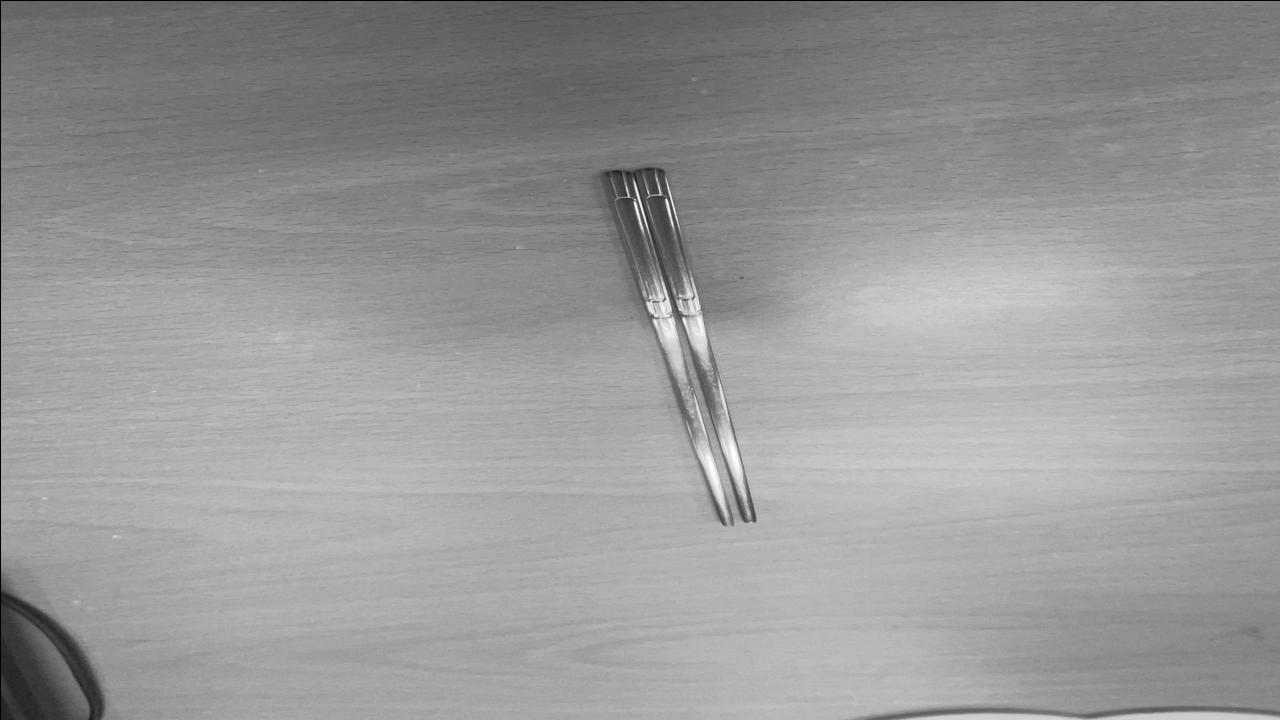chopstick: (602, 162, 764, 525)
